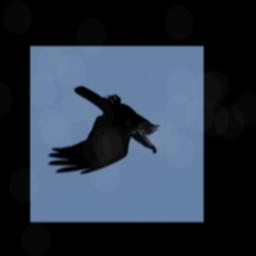Crow: (48, 86, 162, 176)
